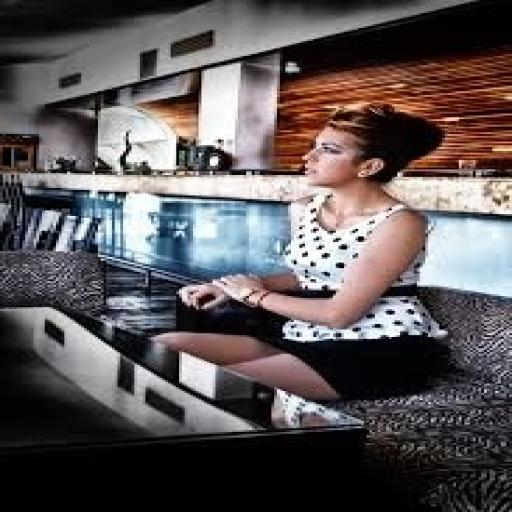sitting: (148, 99, 454, 430)
